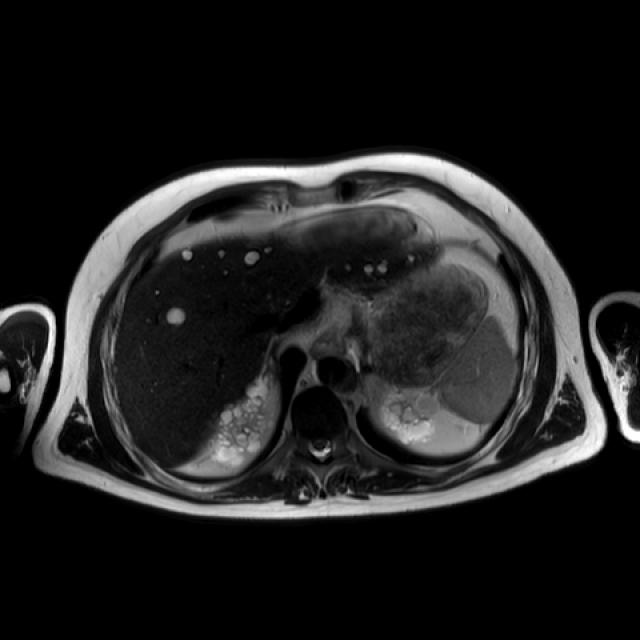sag: (206, 374, 272, 470)
sol: (380, 385, 440, 445)
